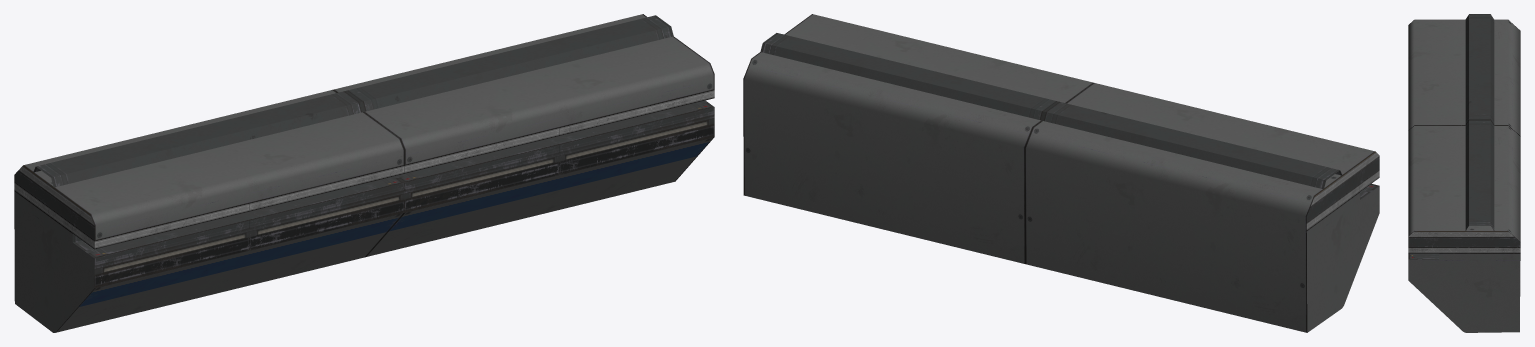
File: Subway_edge_passage1_L1.fbx
3 views of the same model, side by side, from view 1: azimuth 30°, elevation 25°; view 2: azimuth 150°, elevation 25°; view 3: azimuth 270°, elevation 25° (orthographic). The views are drawn at different scales.
Parts seen in each view (by area): view 1: polySurface278; view 2: polySurface278; view 3: polySurface278.
Part boxes in pixels (x1,y1,x2,y2): polySurface278: (14,14,714,332); polySurface278: (743,14,1379,332); polySurface278: (1408,14,1520,332).
Size of the model in its own units: 400 by 94.7 by 89.76.
